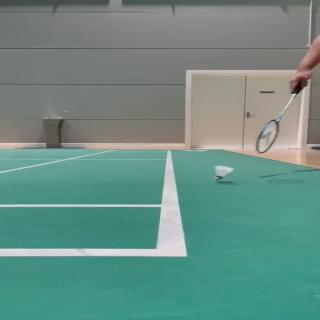Shuttle: (214, 166, 233, 180)
